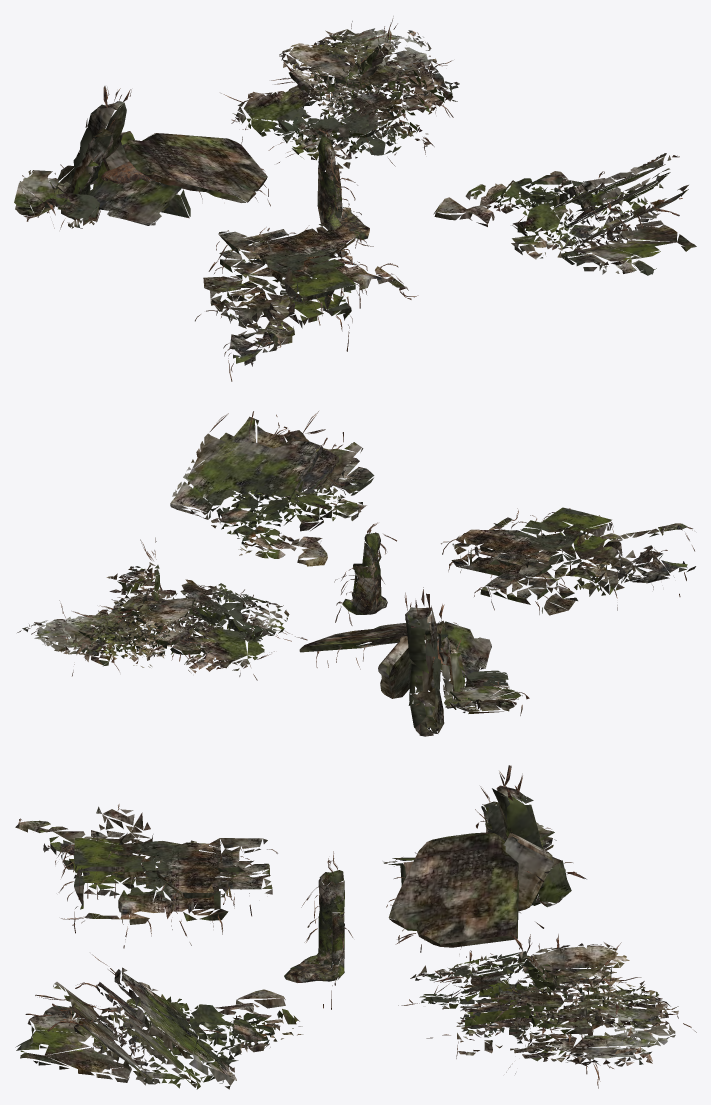
File: ruin_concrete_ruins.glb
3 renders of one model, top to bottom at view 1: azimuth 30°, elevation 25°; view 2: azimuth 150°, elevation 25°; view 3: azimuth 270°, elevation 25°, orthographic. The views are drawn at different scales.
Parts seen in each view (by area): view 1: Cube.571, Cube.951, ruin_urban.000, ruin_urban.004, Cube.044; view 2: ruin_urban.004, Cube.951, ruin_urban.000, Cube.571, Cube.044; view 3: Cube.951, Cube.571, ruin_urban.004, ruin_urban.000, Cube.044.
Part boxes in pixels (box(x1,y1,x2,y2)): Cube.571: box(14, 86, 270, 229); Cube.951: box(221, 16, 459, 168); ruin_urban.000: box(195, 220, 418, 381); ruin_urban.004: box(433, 153, 696, 275); Cube.044: box(301, 129, 369, 248); ruin_urban.004: box(170, 411, 374, 566); Cube.951: box(17, 537, 307, 680); ruin_urban.000: box(441, 507, 695, 615); Cube.571: box(299, 587, 529, 736); Cube.044: box(334, 522, 396, 625); Cube.951: box(398, 932, 696, 1088); Cube.571: box(383, 765, 586, 963); ruin_urban.004: box(15, 954, 303, 1089); ruin_urban.000: box(15, 804, 277, 948); Cube.044: box(284, 851, 352, 1009).
Bounding box in the file's own units: 101 × 27.5 × 109.
2 materials, 2 textured.
